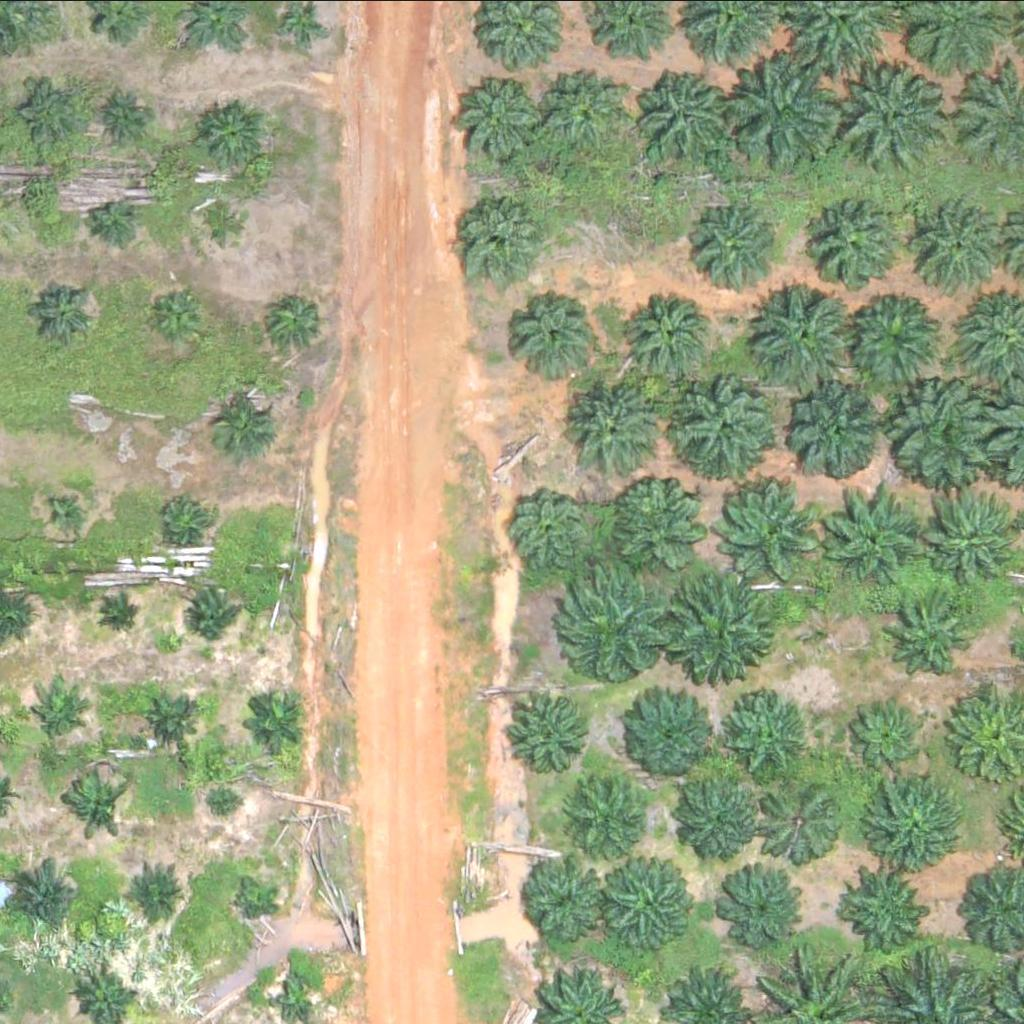Kelapa_Sawit: (552, 559, 678, 684), (729, 59, 843, 171), (745, 284, 858, 396), (673, 367, 786, 479), (892, 374, 1005, 486), (689, 200, 790, 300), (910, 195, 1011, 295), (843, 293, 944, 393), (565, 377, 666, 477), (822, 490, 923, 590), (719, 475, 820, 575), (670, 572, 771, 672), (848, 72, 948, 172), (632, 67, 732, 167), (804, 191, 904, 291), (785, 381, 885, 481), (870, 768, 970, 868), (597, 471, 697, 571), (454, 199, 542, 287), (625, 296, 713, 384), (609, 862, 697, 950), (724, 857, 812, 945), (836, 869, 924, 957), (625, 692, 714, 779), (517, 860, 605, 947), (671, 773, 759, 860), (540, 62, 628, 149), (457, 74, 545, 161), (514, 287, 602, 374), (752, 778, 840, 865), (563, 770, 651, 857), (506, 684, 594, 771), (733, 687, 821, 774), (510, 483, 598, 570), (883, 593, 971, 680), (204, 385, 280, 460), (64, 764, 140, 839), (13, 855, 88, 930), (849, 694, 924, 769), (194, 96, 269, 171), (241, 686, 304, 749), (131, 859, 194, 922), (136, 687, 199, 750), (32, 280, 95, 343), (264, 287, 327, 350), (146, 287, 209, 350), (19, 81, 82, 143), (97, 87, 148, 137), (83, 200, 134, 250), (229, 867, 280, 917), (271, 973, 322, 1023), (28, 691, 78, 741), (191, 590, 241, 640), (158, 490, 208, 540), (199, 196, 249, 246), (53, 493, 91, 531), (207, 784, 245, 822), (104, 599, 142, 636)
